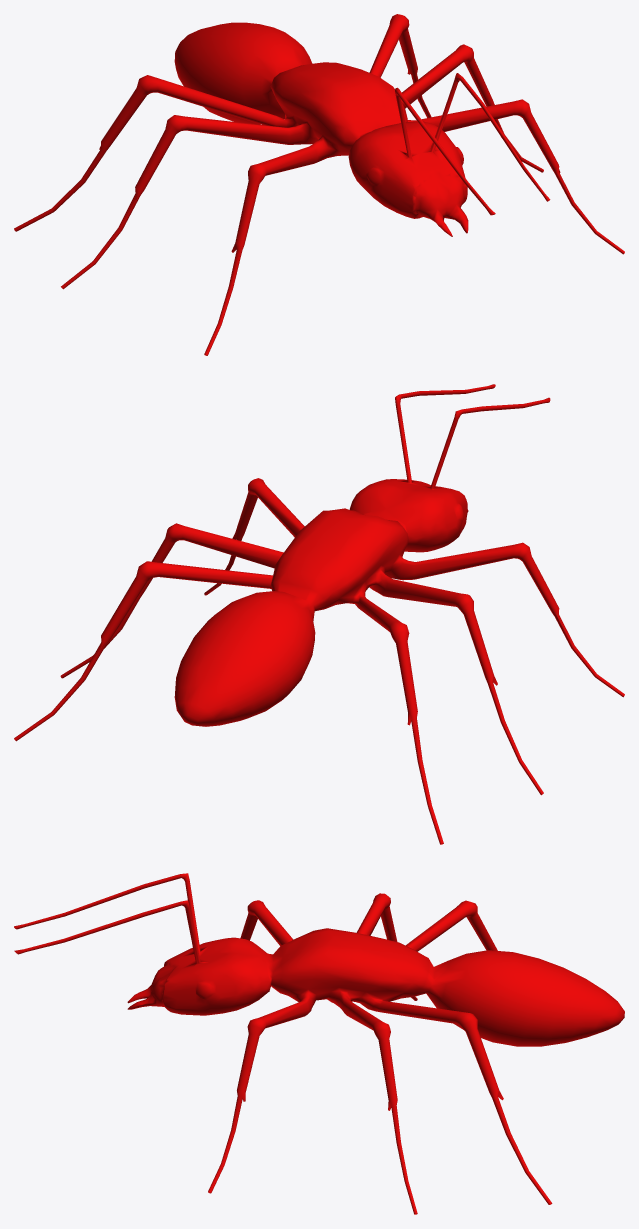
File: Platzhalter_Ant.fbx
3 views of the same model, one above another, from view 1: azimuth 30°, elevation 25°; view 2: azimuth 150°, elevation 25°; view 3: azimuth 270°, elevation 25° (orthographic). The views are drawn at different scales.
Parts seen in each view (by area): view 1: Platzhalter_Ant; view 2: Platzhalter_Ant; view 3: Platzhalter_Ant.
Boxes of the visible parts, x1=… form: Platzhalter_Ant: x1=14, y1=14, x2=624, y2=355; Platzhalter_Ant: x1=14, y1=384, x2=624, y2=844; Platzhalter_Ant: x1=14, y1=873, x2=624, y2=1214.
Bounding box in the file's own units: 26.26 × 12.69 × 31.5.
